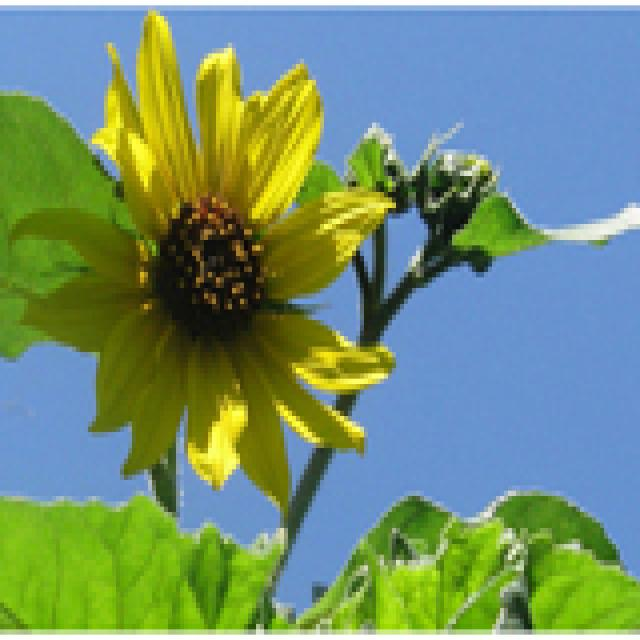sunflower: (4, 7, 404, 533)
